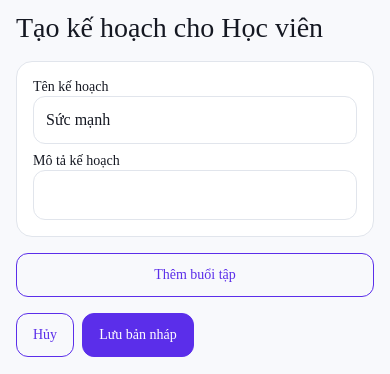
it: Trainer workout plan screens › prevents duplicate draft submits while preserving one logical command
Step 1. Replace the text in the field with test id "plan-name-input" with "Kế hoạch mới" → [195, 120], box [33, 96, 357, 144]
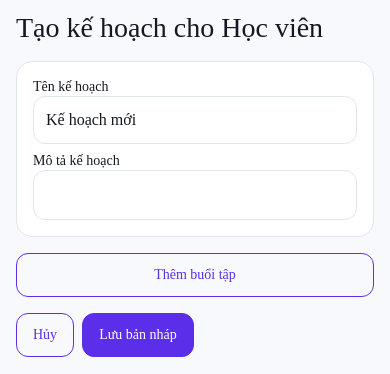
Step 2. Click the button with test id "save-plan-button" → [138, 335], box [82, 313, 194, 357]
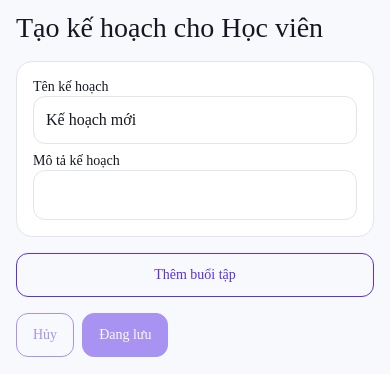
Result: the button with test id "save-plan-button" is disabled at [82, 313, 168, 357]
